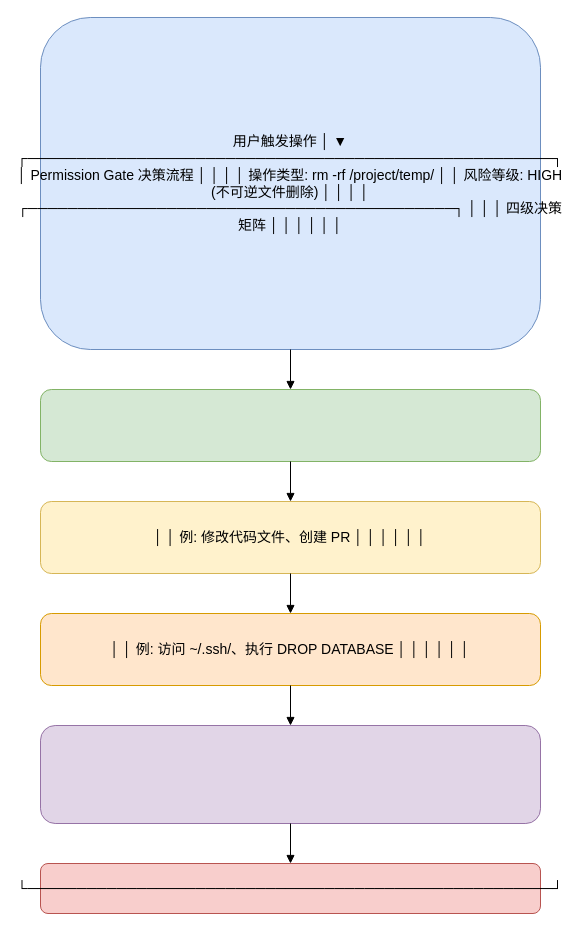
The diagram is 580 pixels wide and 931 high, and some of its shapes have lost their labels. Each missing label, with the centre of its shape:
│ │ 例: 同目录下的批量文件操作 │ │ │ └───────────────────────────────────────────┘ │ │ │: the point at 290,774
│ │ 例: 读取公开文件、执行 SELECT 查询 │ │ │ │ │ │: the point at 290,425
